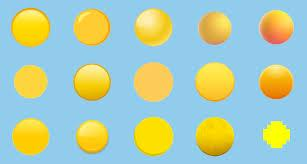yellow_circle: (128, 6, 180, 51), (191, 59, 239, 107), (126, 116, 179, 159), (191, 112, 237, 160), (66, 6, 114, 50), (9, 6, 51, 51), (134, 62, 176, 106), (69, 62, 114, 103), (257, 59, 298, 104), (194, 7, 237, 49), (70, 118, 116, 157), (9, 118, 52, 157), (11, 63, 52, 103)
